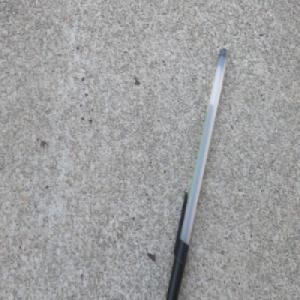Pen: (164, 43, 230, 300)
